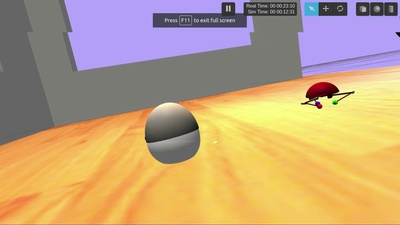mira_robot: (145, 102, 200, 164)
